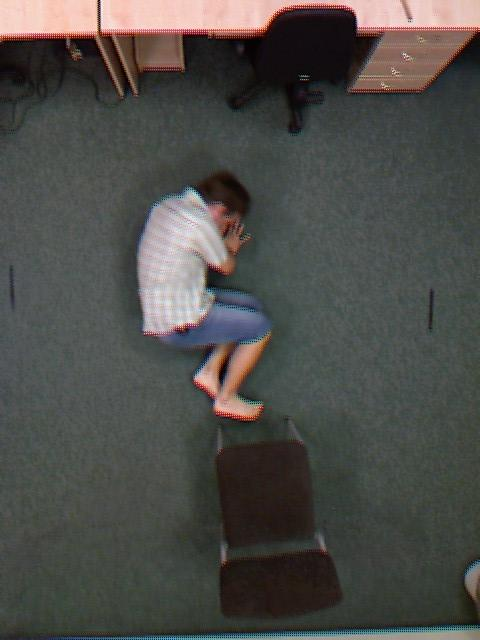fall: (110, 196, 303, 392)
